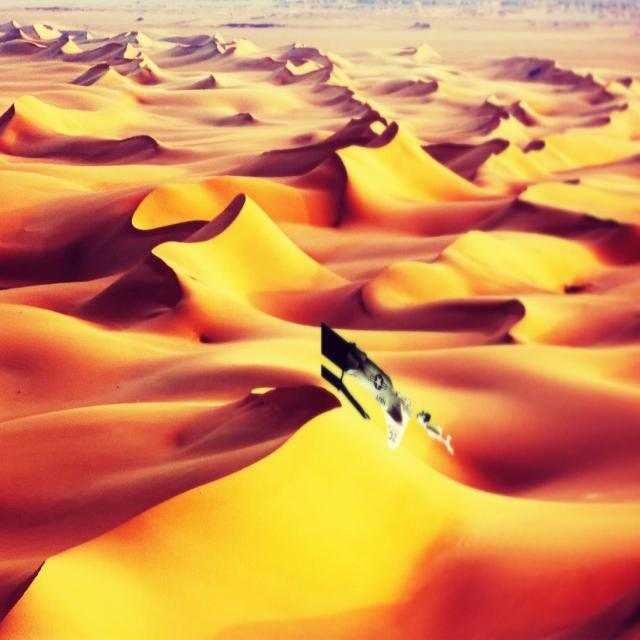airplane: (320, 320, 454, 456)
